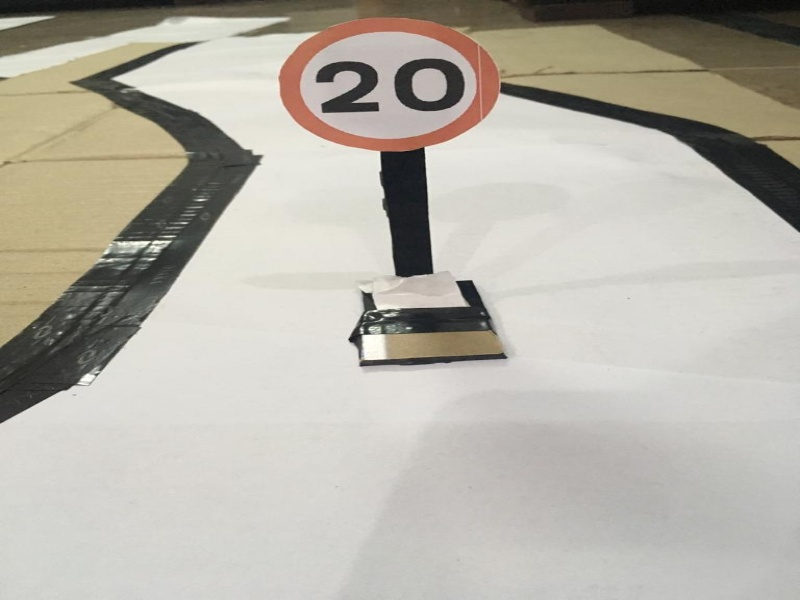Speed Limit 20: (278, 20, 509, 153)
